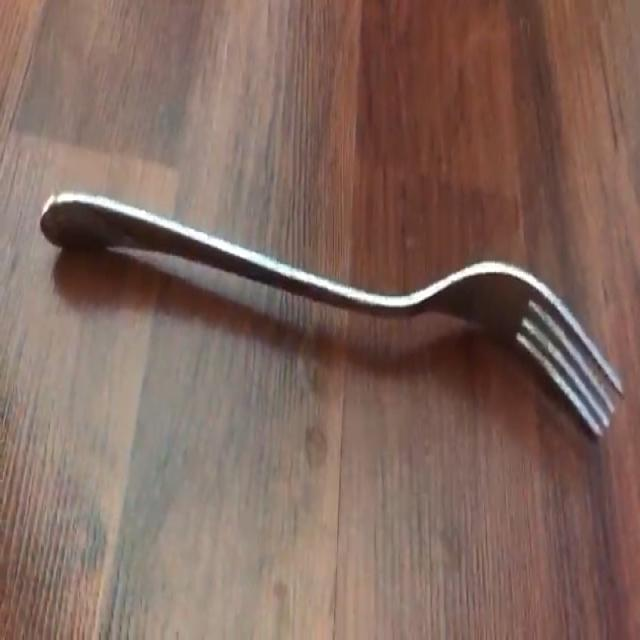spoon: (41, 197, 622, 435)
